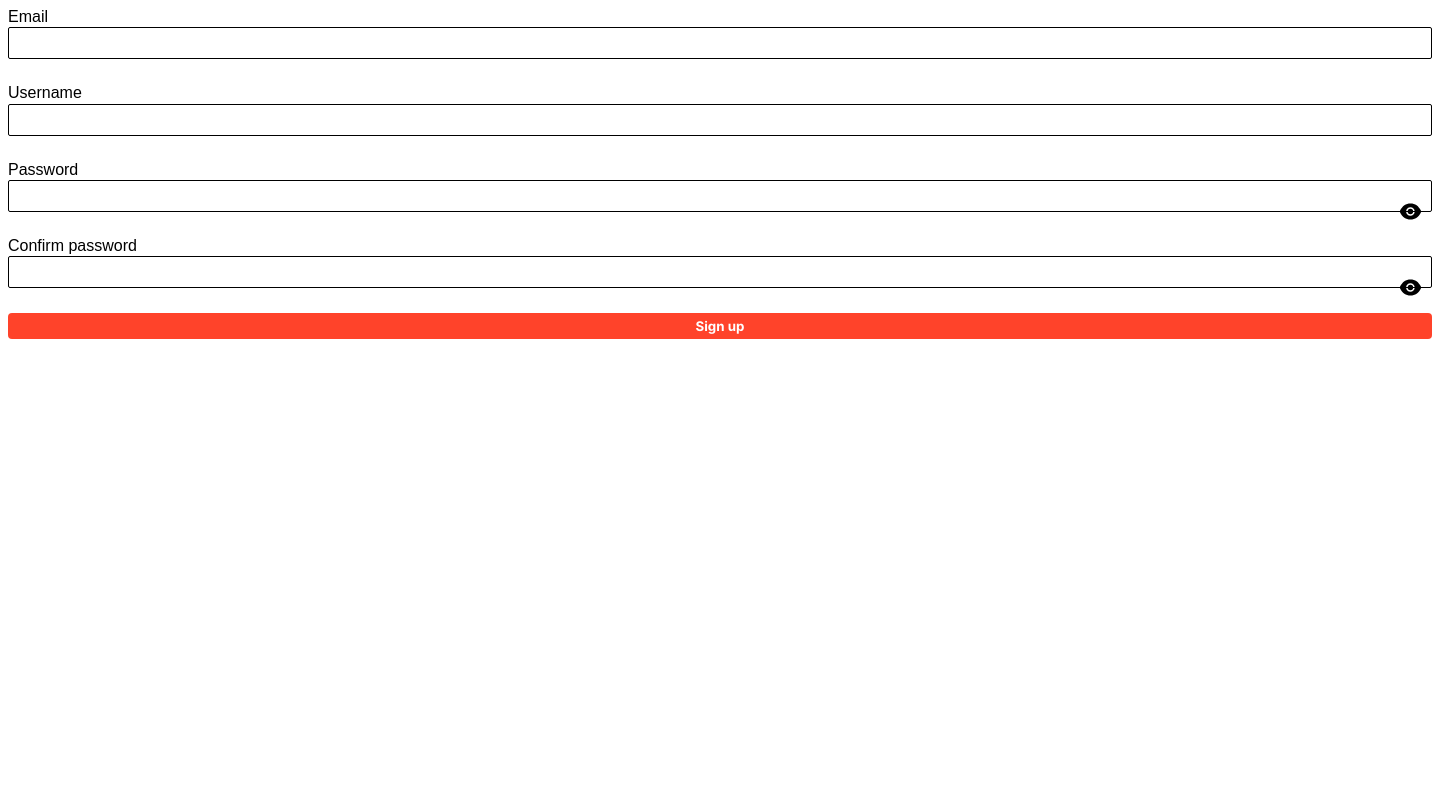
Scenario: SingupForm › Should show error banner when there is network error
In the field labelled "Email": (720, 43) [8,27,1432,59], type "test@example.com"
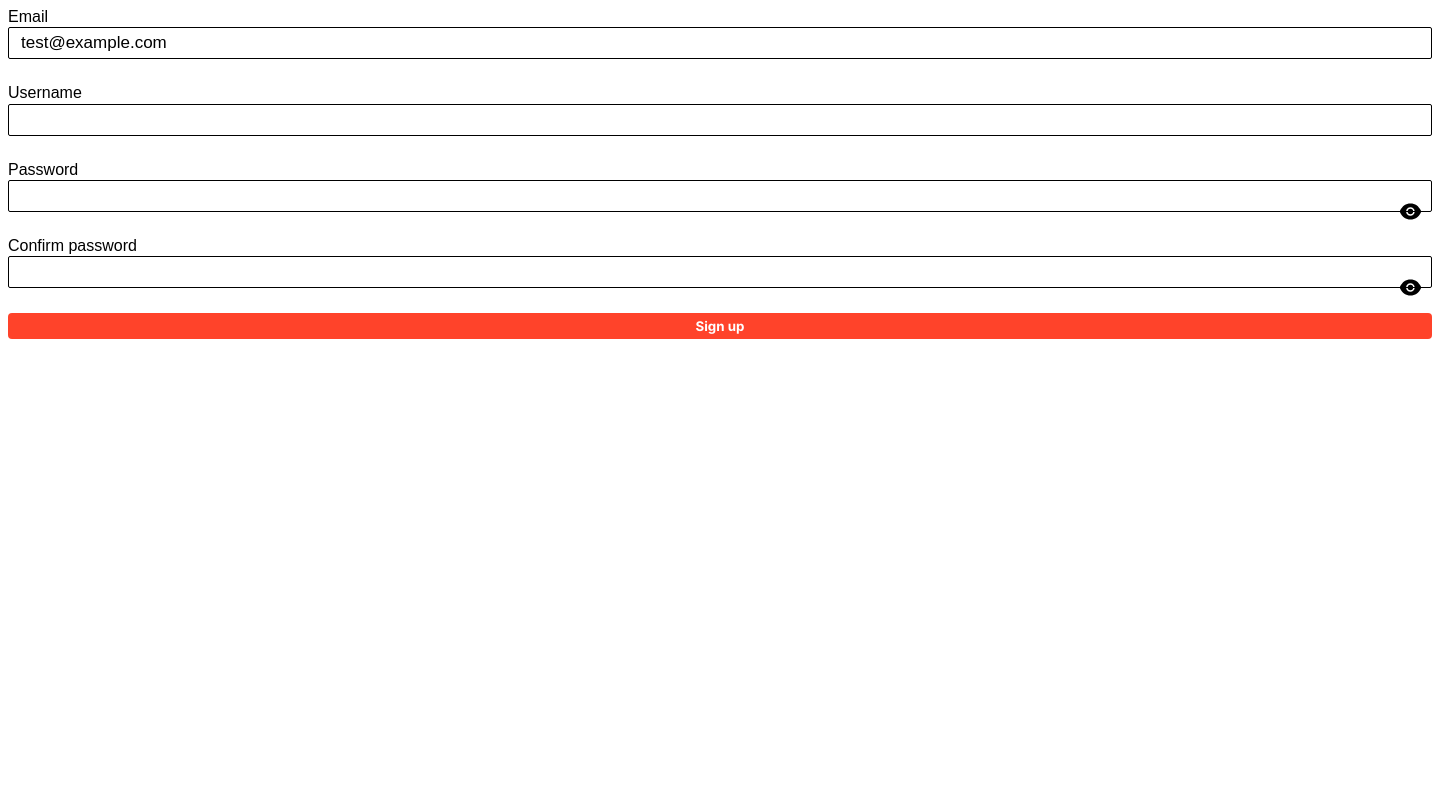
In the field labelled "Username": (720, 120) [8,104,1432,136], type "testuser"
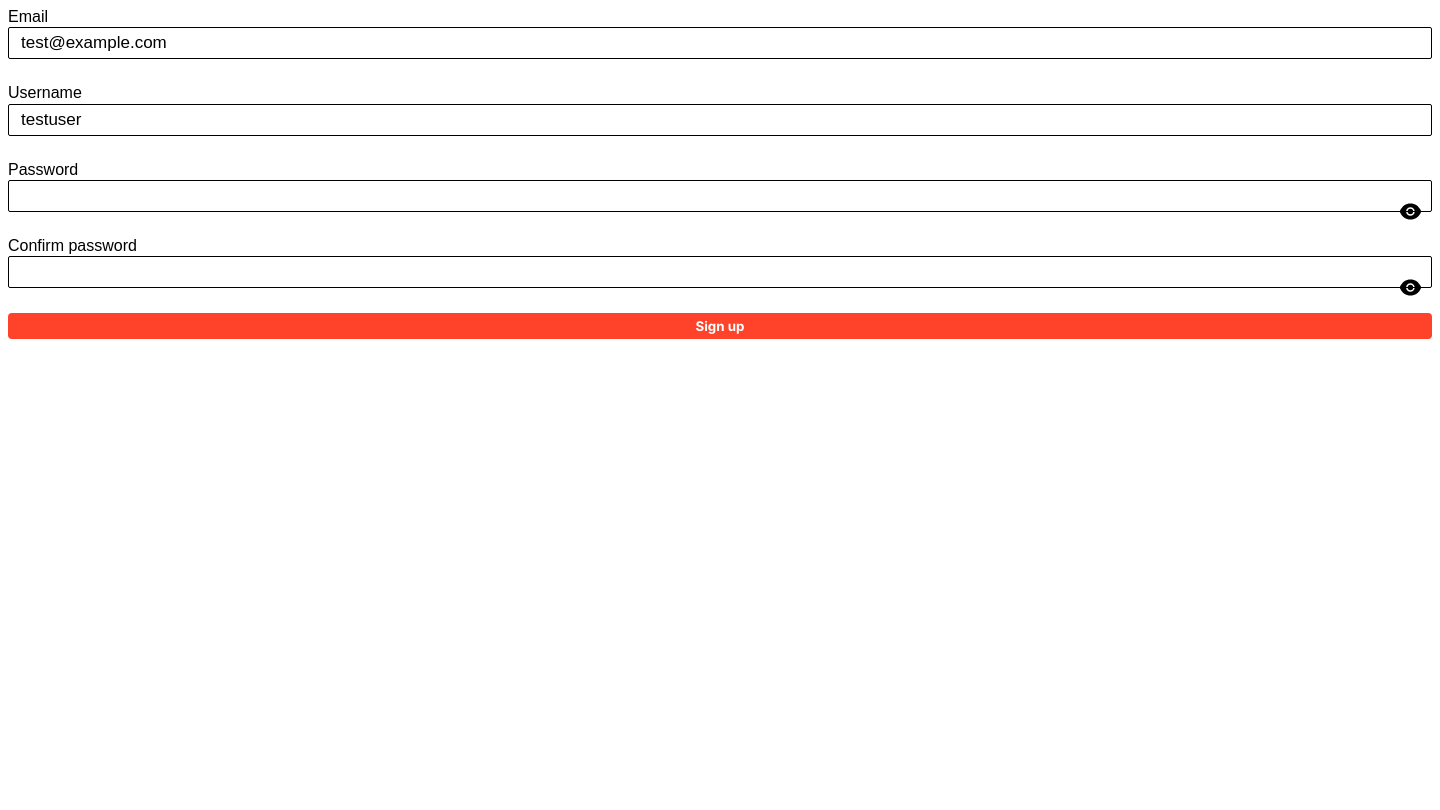
In the password field labelled "Password": (720, 196) [8,180,1432,212], type "Password_123"
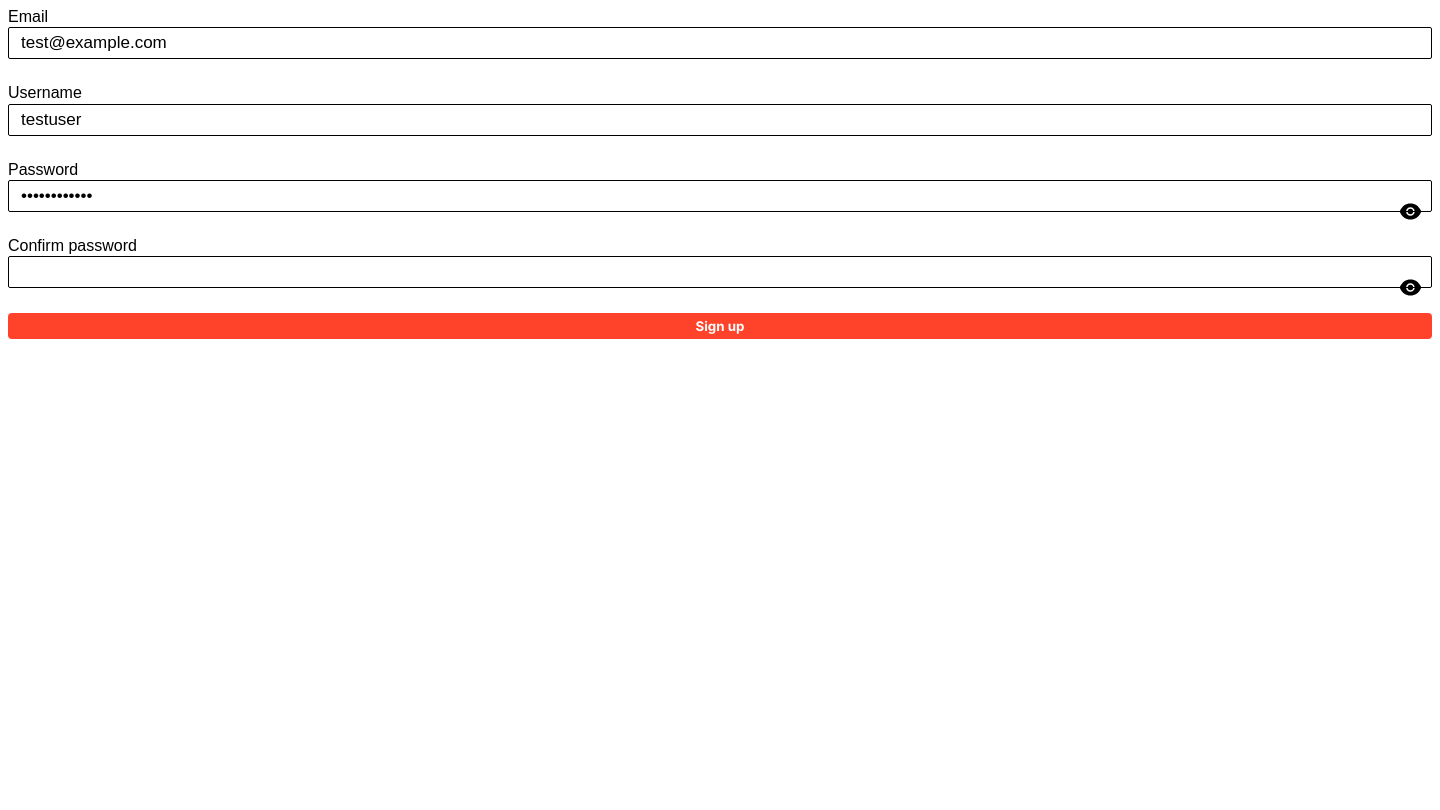
In the password field labelled "Confirm password": (720, 272) [8,256,1432,288], type "Password_123"
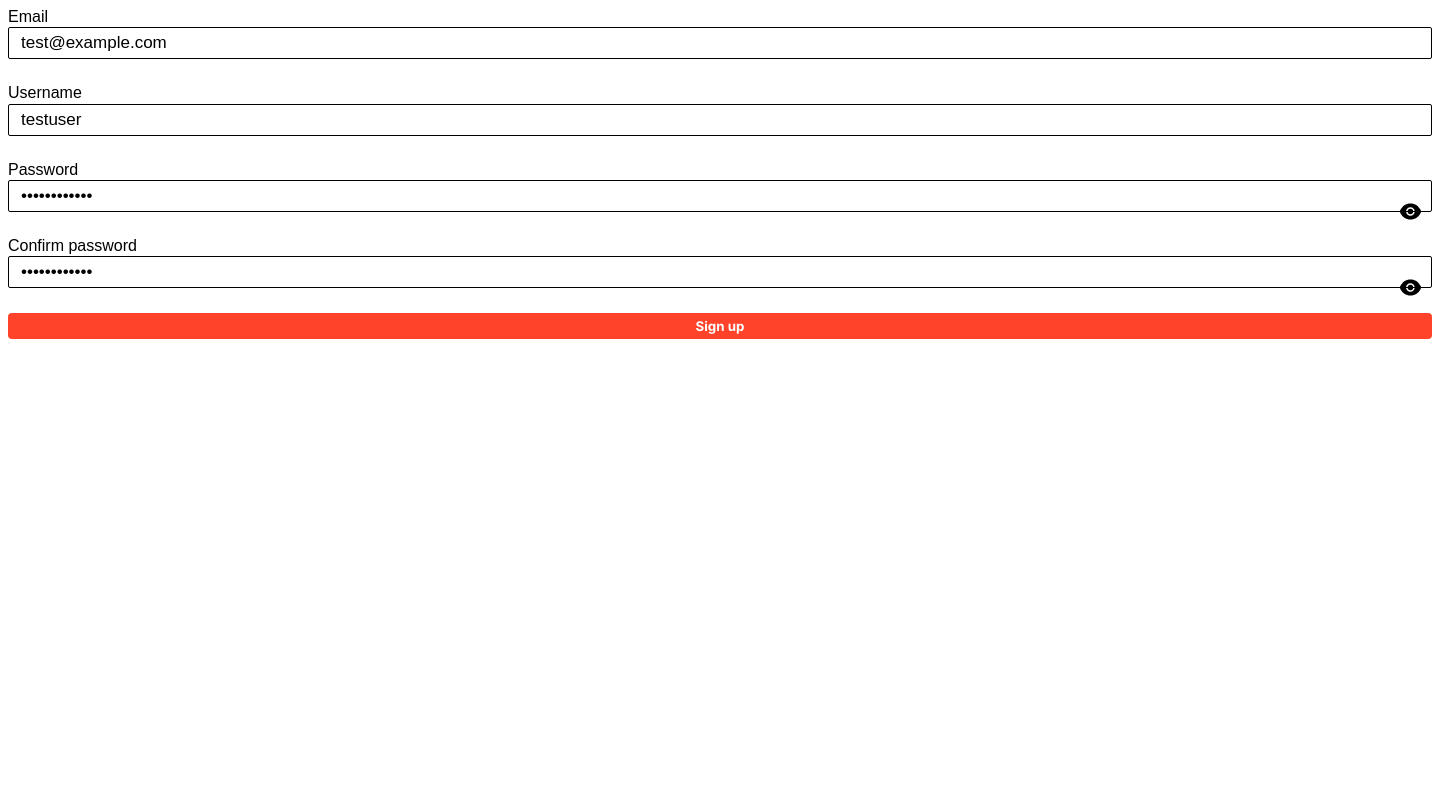
Click the button "Sign up": (720, 326) [8,313,1432,339]
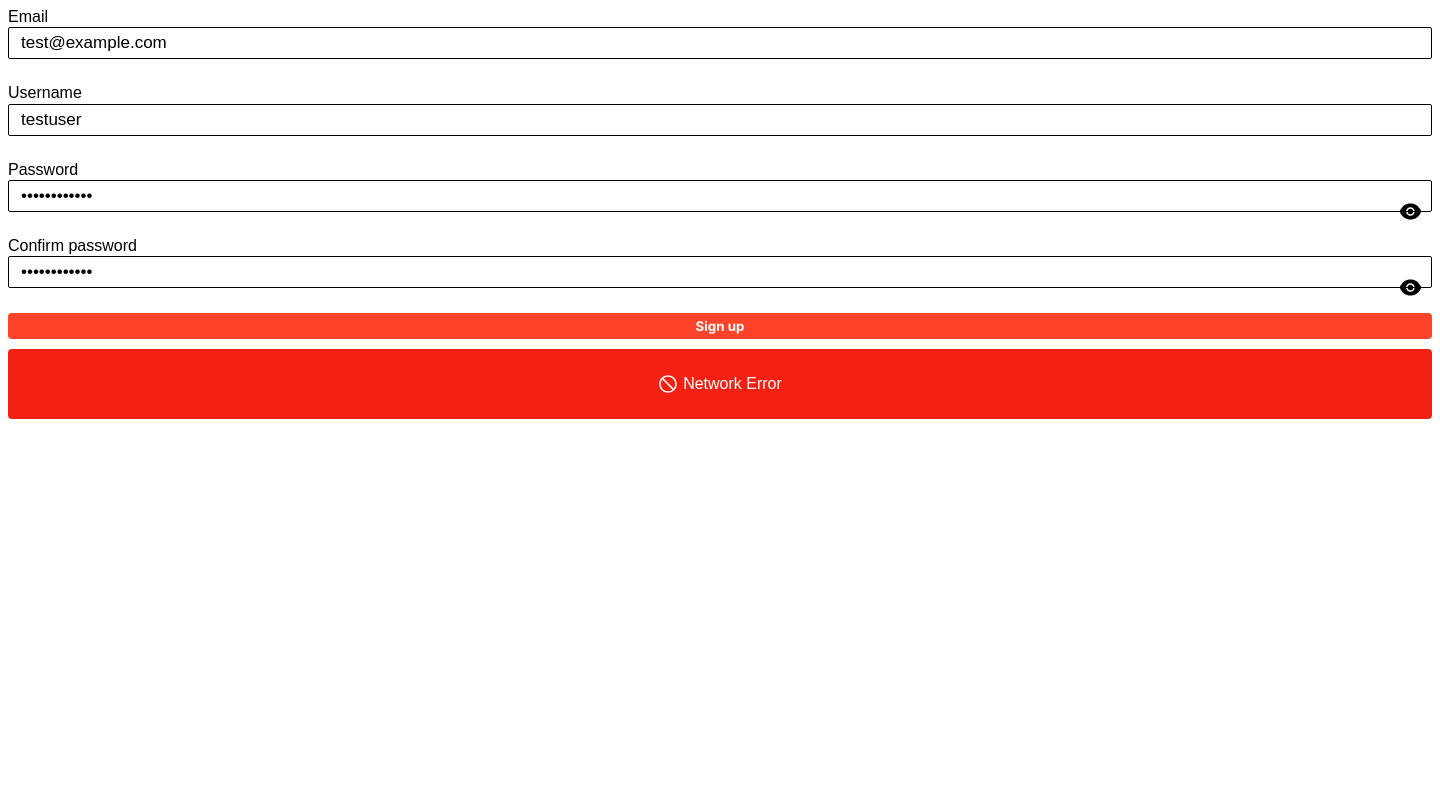
Expected: the dialog reads "Network Error", [683,375,782,392]
